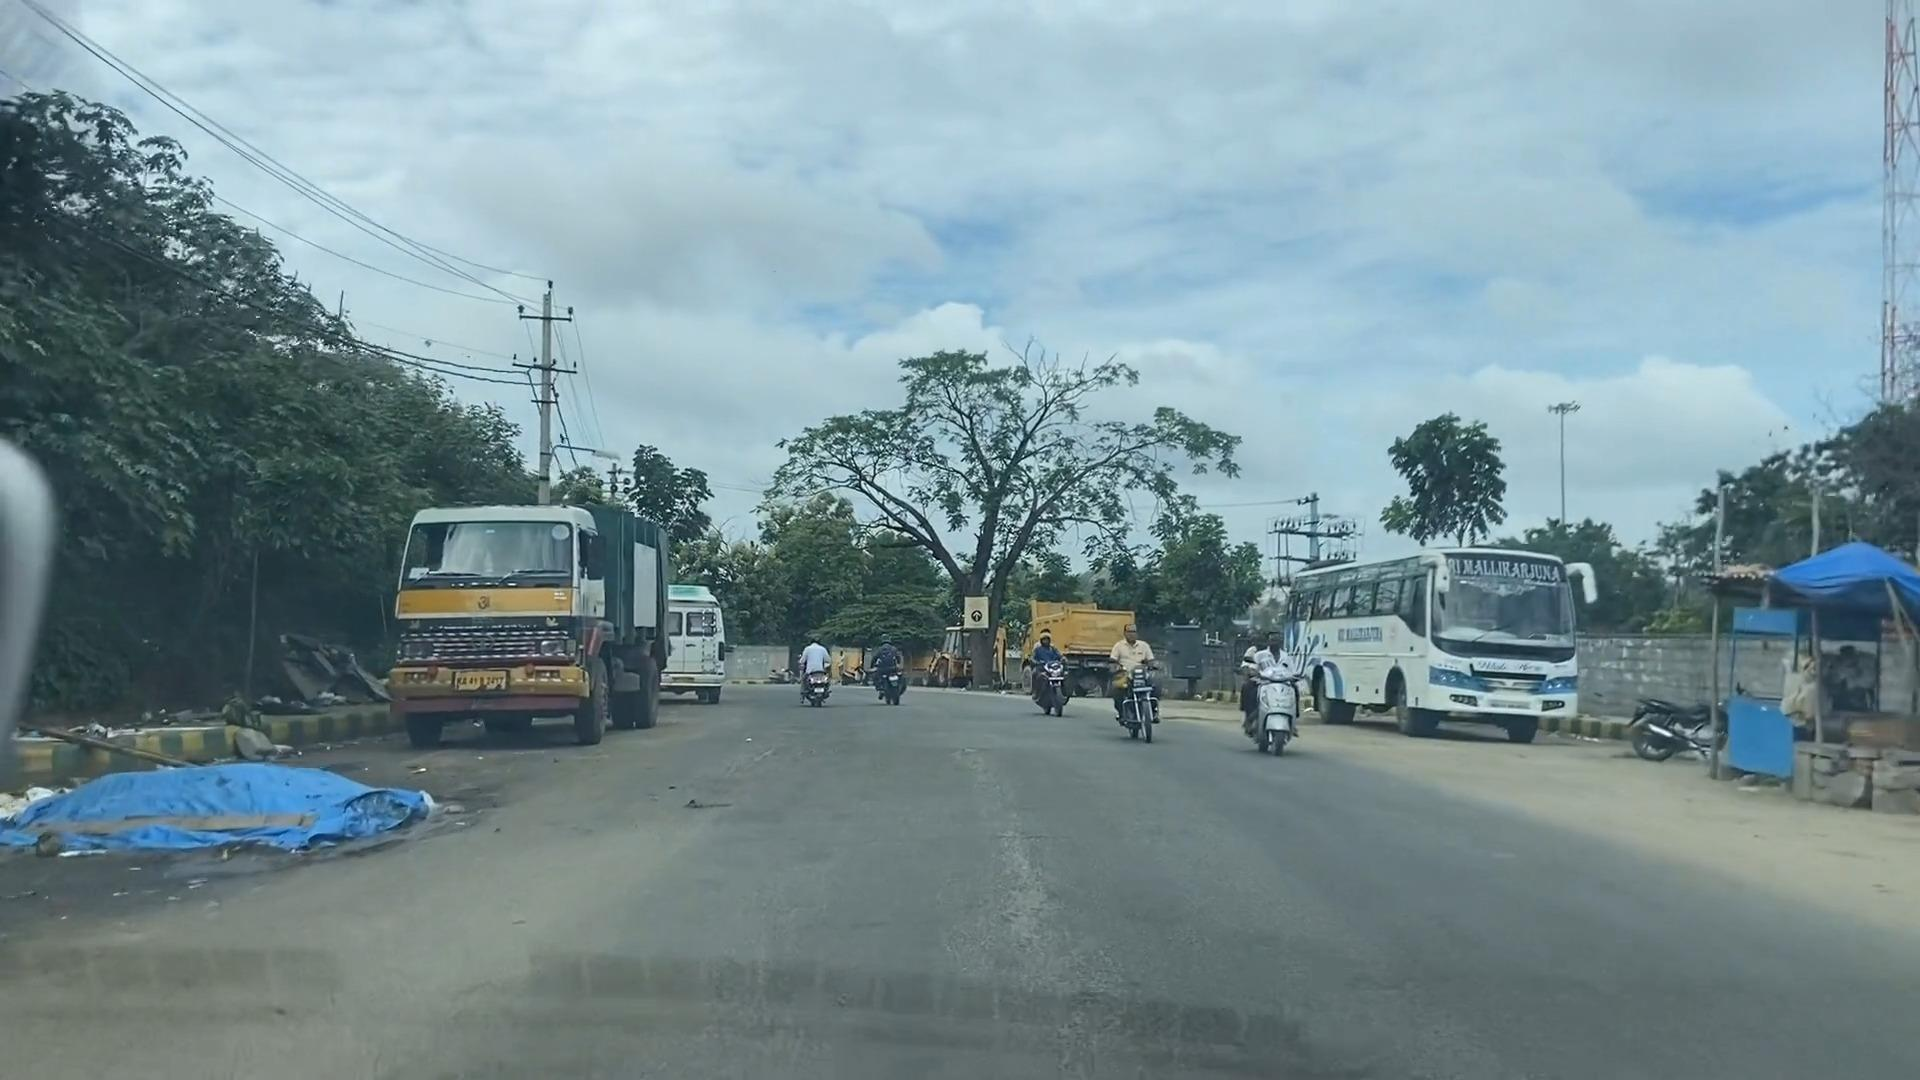HMV: (400, 524, 585, 736), (1400, 543, 1585, 736)
LMV: (1240, 626, 1309, 754), (1106, 617, 1174, 737), (870, 626, 923, 708), (1021, 637, 1075, 711), (800, 646, 851, 715)
RoadDamages: (971, 796, 1091, 976)
